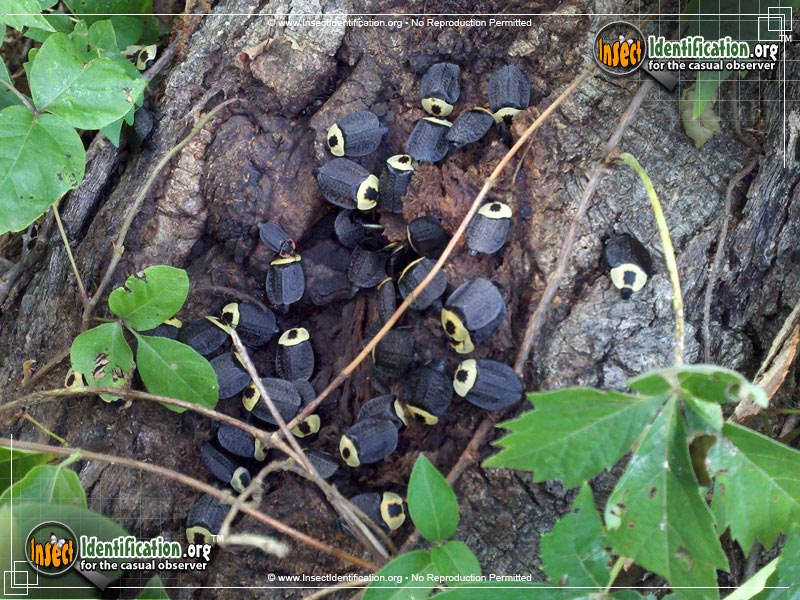American Carrion Beetle: (593, 222, 665, 304), (439, 281, 512, 357), (325, 482, 419, 541), (446, 349, 524, 419), (308, 159, 381, 221), (170, 483, 235, 551), (387, 247, 451, 315), (228, 370, 305, 426), (407, 57, 467, 125), (405, 359, 458, 434), (461, 195, 517, 265), (325, 413, 400, 465), (316, 106, 389, 151), (370, 153, 420, 216), (336, 245, 396, 296), (399, 208, 464, 255), (217, 305, 286, 349), (253, 258, 311, 310), (487, 65, 536, 126), (266, 322, 319, 378), (445, 105, 505, 153), (361, 324, 416, 373), (368, 271, 416, 326)
